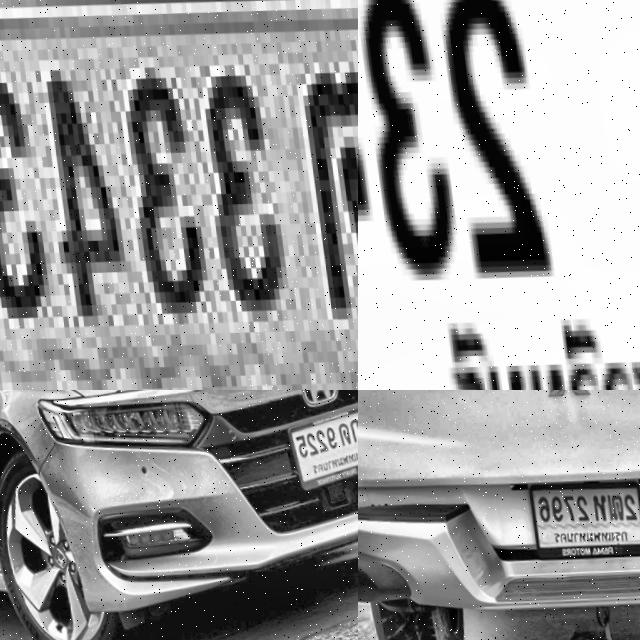license-plate: (0, 0, 358, 390), (358, 0, 640, 390), (518, 476, 640, 561), (274, 390, 358, 502)
